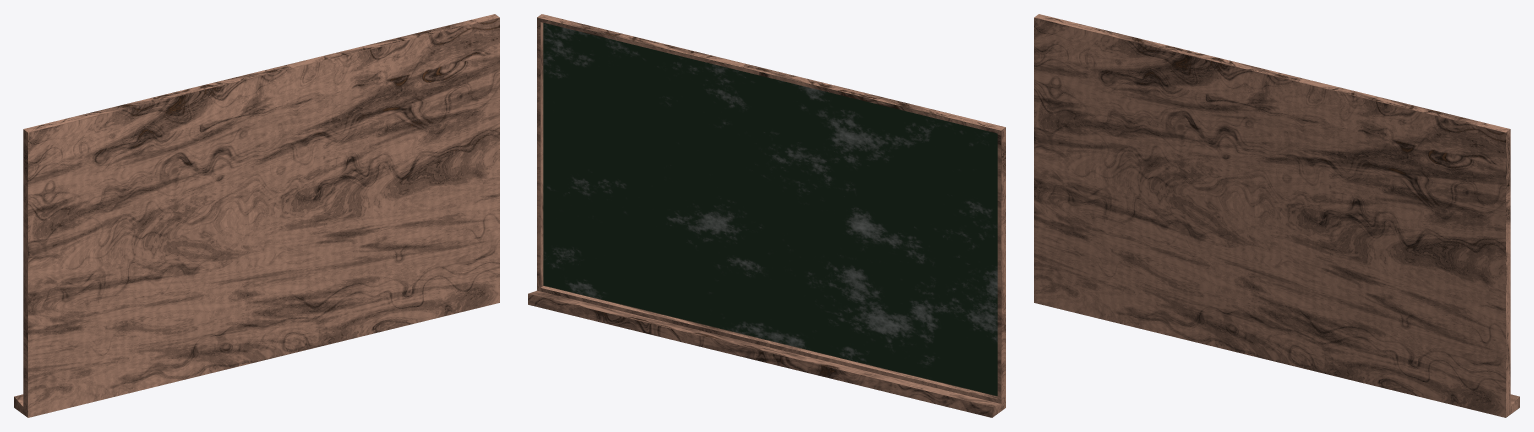
File: ChalkBoard.fbx
The picture shows the model from 3 angles, left to right: view 1: azimuth 30°, elevation 25°; view 2: azimuth 150°, elevation 25°; view 3: azimuth 330°, elevation 25°; orthographic projection.
Parts seen in each view (by area): view 1: Chalkboard_Baked; view 2: Chalkboard_Baked; view 3: Chalkboard_Baked.
Part boxes in pixels (x1,y1,x2,y2): Chalkboard_Baked: (14,14,499,417); Chalkboard_Baked: (528,14,1005,417); Chalkboard_Baked: (1034,14,1519,417).
Bounding box in the file's own units: 302 × 174 × 15.52.
1 material, 1 textured.
